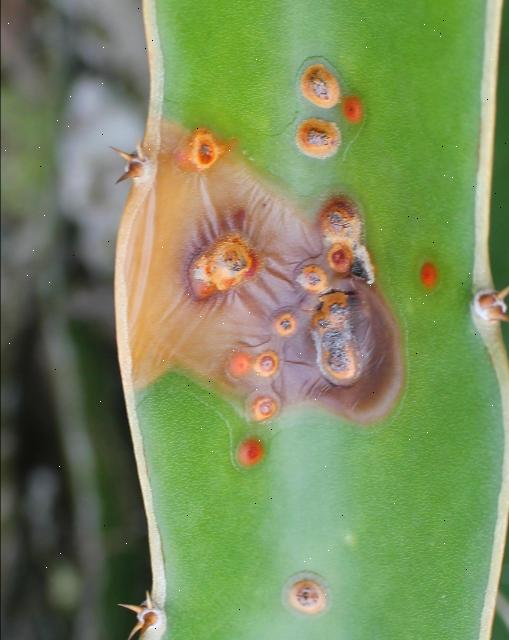stemcanker: (119, 120, 399, 427)
